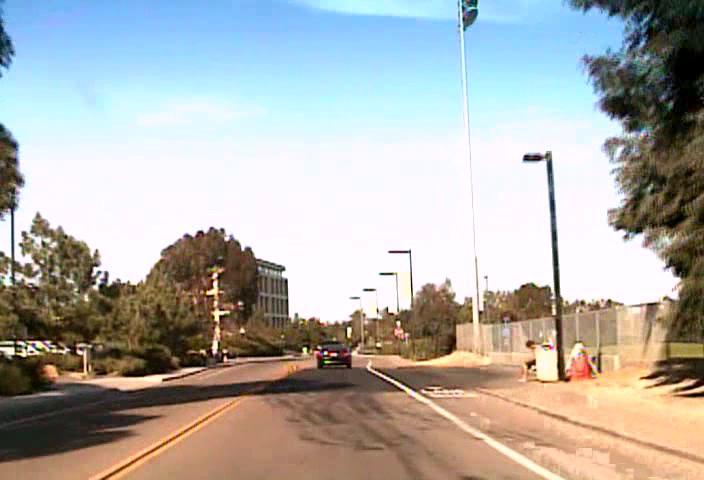stop: (393, 326, 404, 336)
